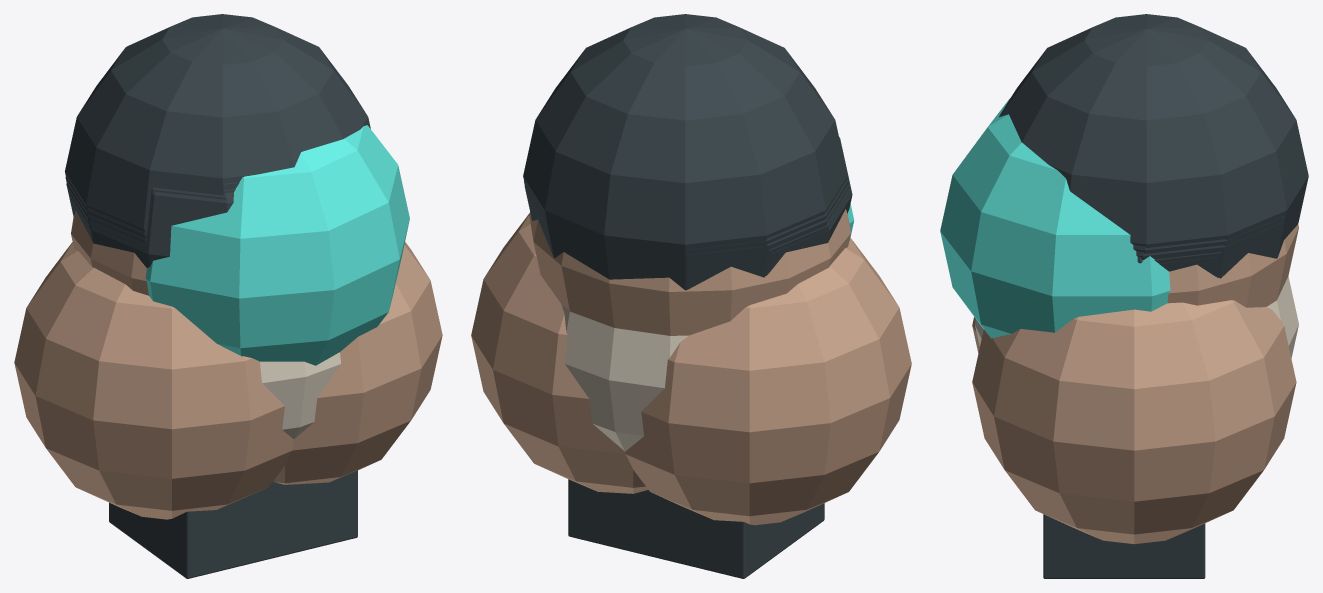
Rendered from Kweku_Jury.fbx.
The picture shows the model from 3 angles, left to right: view 1: azimuth 30°, elevation 25°; view 2: azimuth 150°, elevation 25°; view 3: azimuth 270°, elevation 25°; orthographic projection. The views are drawn at different scales.
Parts seen in each view (by area): view 1: RightHandMesh, IntentEye, Hair_4, LeftHandMesh, RightFootMesh, LeftFootMesh, Hair_0, Coat, HeadMesh, Hair_1, Hair_3; view 2: Hair_4, RightHandMesh, LeftHandMesh, HeadMesh, RightFootMesh, Coat, Hair_2, LeftFootMesh, Hair_3, Hair_0, Hair_1; view 3: LeftHandMesh, Hair_4, IntentEye, LeftFootMesh, HeadMesh, Hair_2, Coat, Hair_3, Hair_0, Hair_1.
Part boxes in pixels (x1,y1,x2,y2): RightHandMesh: [14, 242, 293, 519]; IntentEye: [145, 125, 409, 365]; Hair_4: [65, 14, 370, 230]; LeftHandMesh: [273, 242, 442, 484]; RightFootMesh: [109, 481, 321, 578]; LeftFootMesh: [223, 470, 357, 569]; Hair_0: [69, 191, 233, 267]; Coat: [260, 352, 340, 438]; HeadMesh: [71, 210, 148, 295]; Hair_1: [68, 187, 233, 248]; Hair_3: [65, 176, 239, 237]; Hair_4: [523, 14, 847, 290]; RightHandMesh: [625, 238, 911, 525]; LeftHandMesh: [471, 213, 648, 493]; HeadMesh: [529, 209, 850, 335]; RightFootMesh: [605, 490, 824, 578]; Coat: [562, 305, 688, 451]; Hair_2: [524, 183, 849, 289]; LeftFootMesh: [568, 479, 705, 569]; Hair_3: [524, 177, 848, 290]; Hair_0: [769, 137, 852, 272]; Hair_1: [766, 177, 850, 275]; LeftHandMesh: [972, 300, 1296, 544]; Hair_4: [999, 14, 1308, 258]; IntentEye: [940, 98, 1170, 338]; LeftFootMesh: [1043, 514, 1205, 578]; HeadMesh: [1167, 224, 1298, 307]; Hair_2: [1136, 222, 1283, 278]; Coat: [974, 276, 1298, 358]; Hair_3: [1133, 216, 1285, 258]; Hair_0: [1159, 257, 1217, 276]; Hair_1: [1137, 252, 1221, 277].
Bounding box in the file's own units: 2.83 × 3.45 × 2.27.
